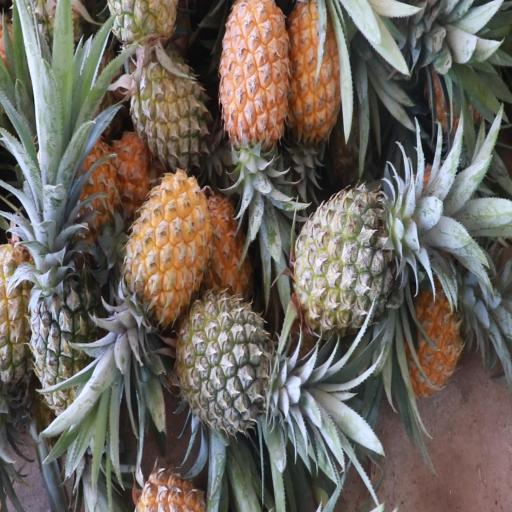------------------------------: (1, 236, 31, 424)
Pineapple - v8 v1: (107, 176, 212, 363), (218, 6, 290, 219), (291, 1, 346, 164)
